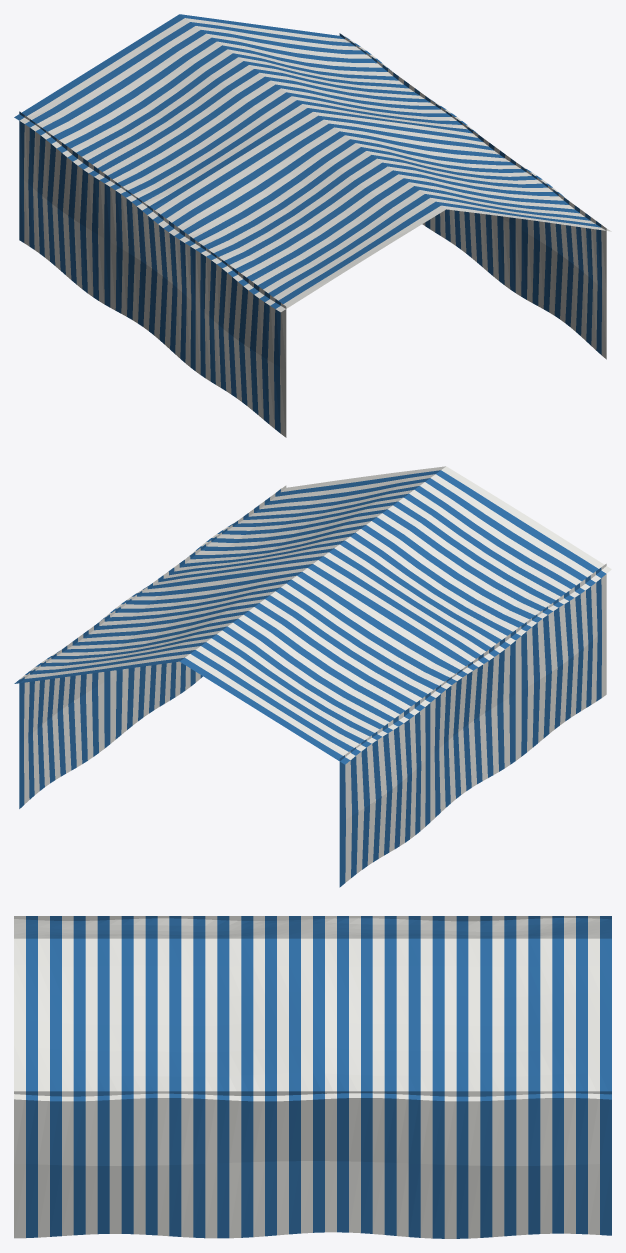
The model's file is SM_TentTarp.glb.
3 renders of one model, top to bottom at view 1: azimuth 30°, elevation 25°; view 2: azimuth 150°, elevation 25°; view 3: azimuth 270°, elevation 25°, orthographic. The views are drawn at different scales.
Parts seen in each view (by area): view 1: SM_TentTarp_Roof_L_White, SM_TentTarp_Roof_L_Blue, SM_TentTarp_Side_L_White, SM_TentTarp_Side_L_Blue, SM_TentTarp_Roof_R_White, SM_TentTarp_Roof_R_Blue, SM_TentTarp_Side_R_White, SM_TentTarp_Side_R_Blue; view 2: SM_TentTarp_Roof_L_Blue, SM_TentTarp_Roof_L_White, SM_TentTarp_Side_L_Blue, SM_TentTarp_Side_L_White, SM_TentTarp_Roof_R_Blue, SM_TentTarp_Roof_R_White, SM_TentTarp_Side_R_Blue, SM_TentTarp_Side_R_White; view 3: SM_TentTarp_Roof_R_White, SM_TentTarp_Roof_R_Blue, SM_TentTarp_Side_R_White, SM_TentTarp_Side_R_Blue, SM_TentTarp_Roof_L_White, SM_TentTarp_Roof_L_Blue, SM_TentTarp_Side_L_White, SM_TentTarp_Side_L_Blue.
Boxes of the visible parts, x1,y1,x2,y2 form: SM_TentTarp_Roof_L_White: (19, 18, 445, 312); SM_TentTarp_Roof_L_Blue: (14, 14, 440, 308); SM_TentTarp_Side_L_White: (24, 115, 286, 437); SM_TentTarp_Side_L_Blue: (19, 111, 280, 433); SM_TentTarp_Roof_R_White: (185, 18, 611, 231); SM_TentTarp_Roof_R_Blue: (180, 14, 600, 227); SM_TentTarp_Side_R_White: (345, 37, 606, 359); SM_TentTarp_Side_R_Blue: (339, 33, 601, 354); SM_TentTarp_Roof_L_Blue: (180, 470, 606, 764); SM_TentTarp_Roof_L_White: (185, 466, 611, 759); SM_TentTarp_Side_L_Blue: (339, 567, 601, 887); SM_TentTarp_Side_L_White: (345, 563, 606, 882); SM_TentTarp_Roof_R_Blue: (14, 470, 440, 683); SM_TentTarp_Roof_R_White: (19, 466, 445, 679); SM_TentTarp_Side_R_Blue: (19, 489, 280, 808); SM_TentTarp_Side_R_White: (24, 485, 286, 804); SM_TentTarp_Roof_R_White: (14, 938, 599, 1101); SM_TentTarp_Roof_R_Blue: (26, 938, 611, 1101); SM_TentTarp_Side_R_White: (14, 1091, 599, 1238); SM_TentTarp_Side_R_Blue: (26, 1091, 611, 1238); SM_TentTarp_Roof_L_White: (14, 918, 599, 938); SM_TentTarp_Roof_L_Blue: (26, 918, 611, 938); SM_TentTarp_Side_L_White: (14, 916, 599, 921); SM_TentTarp_Side_L_Blue: (26, 916, 611, 921).
Size of the model in its own units: 4.3 by 2.35 by 6.
